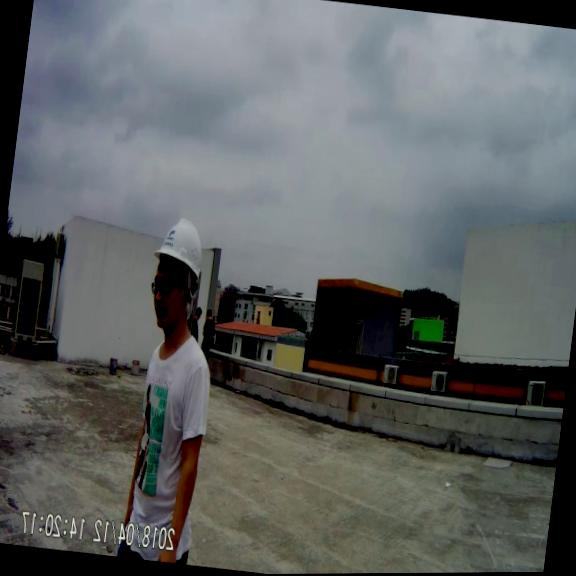no_safety_vest: (122, 326, 217, 512)
